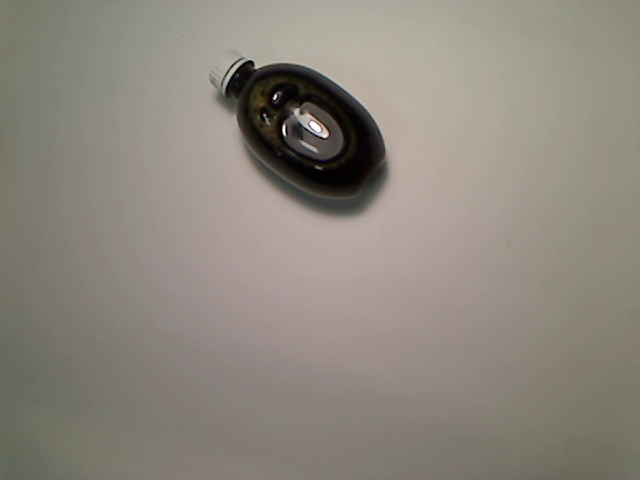plast_bottle: (208, 48, 389, 204)
